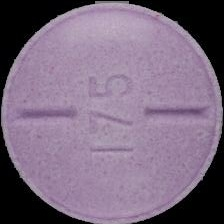67544-061: (0, 0, 224, 224)
